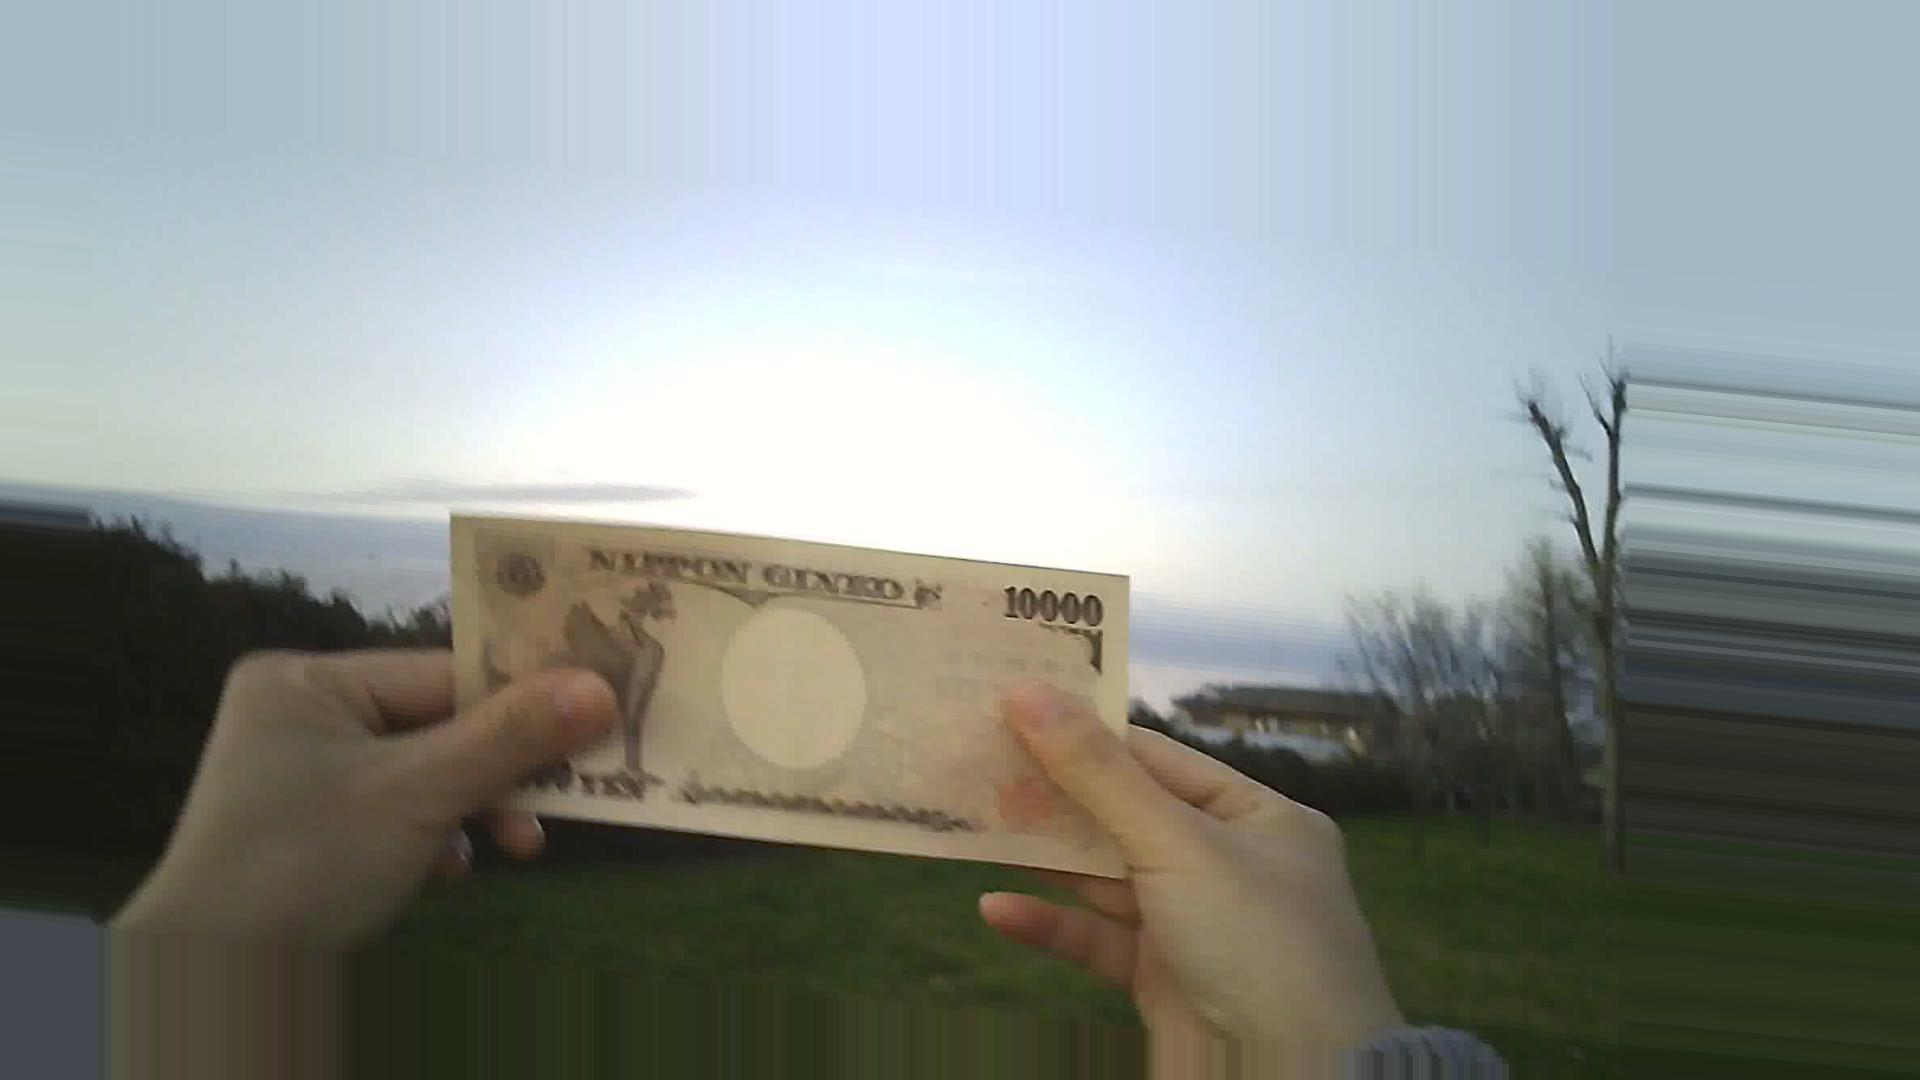10,000 Yen: (425, 477, 1238, 887)
